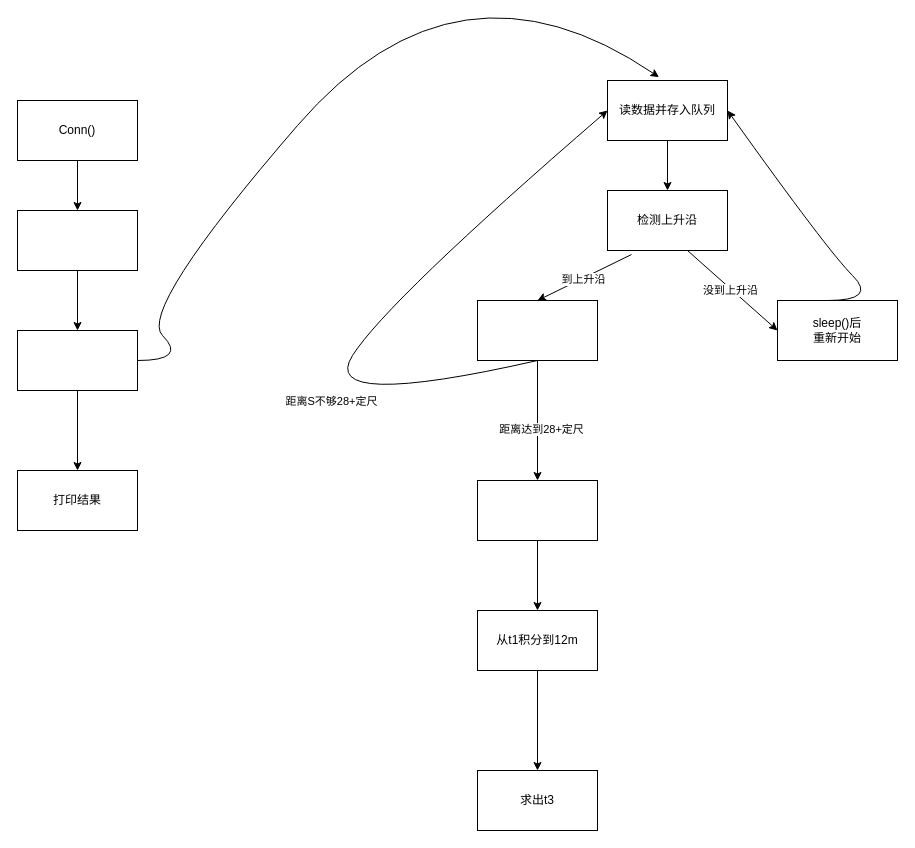
Image size: 915x848. Some labels were removed from this diagram. Each missing label, with the centre of its shape:
"calculation()" goes at (x=77, y=360).
"倒序遍历队列 积分" goes at (x=537, y=330).
"计算出t1" goes at (x=537, y=510).
"连接PLC 启动模拟线程" goes at (x=77, y=240).
